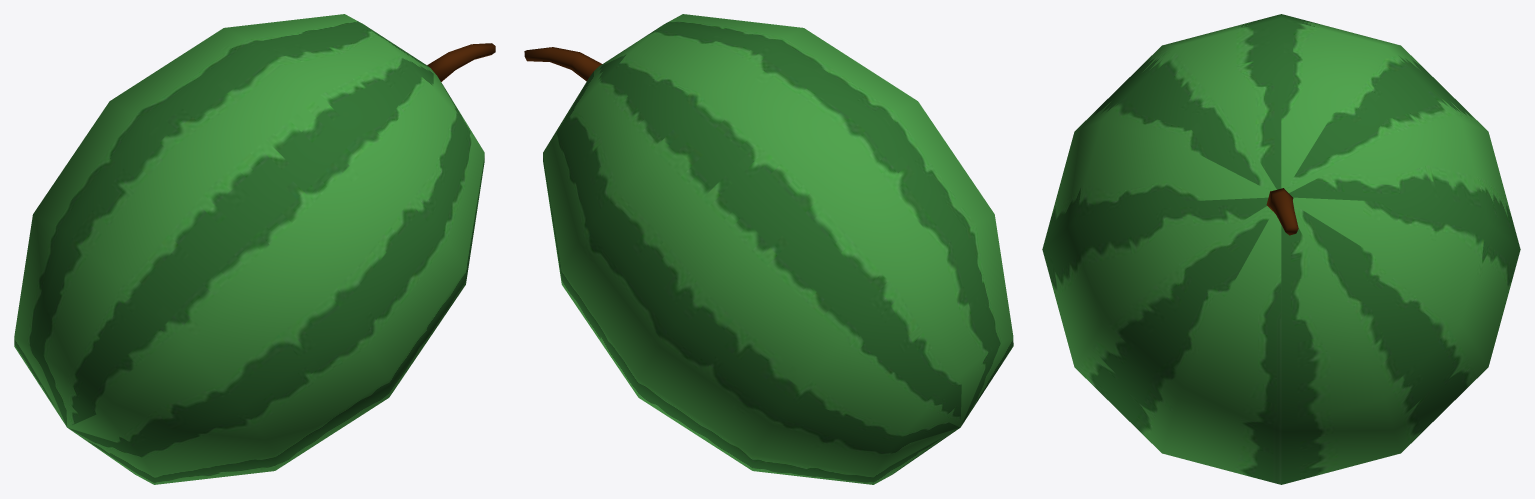
The model's file is watermelon.obj.
3 views of the same model, side by side, from view 1: azimuth 30°, elevation 25°; view 2: azimuth 150°, elevation 25°; view 3: azimuth 270°, elevation 25° (orthographic). The views are drawn at different scales.
Parts seen in each view (by area): view 1: Watermelon; view 2: Watermelon; view 3: Watermelon.
Boxes of the visible parts, x1,y1,x2,y2 form: Watermelon: [14, 14, 495, 484]; Watermelon: [524, 14, 1013, 484]; Watermelon: [1042, 14, 1520, 484].
Bounding box in the file's own units: 32.13 × 26.66 × 24.58.
